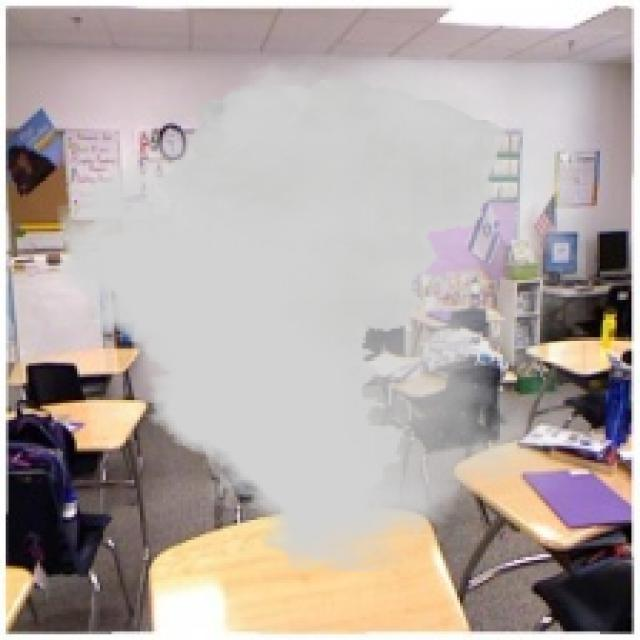Smoke: (57, 54, 586, 572)
